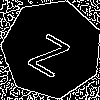Z: (26, 24, 77, 78)
